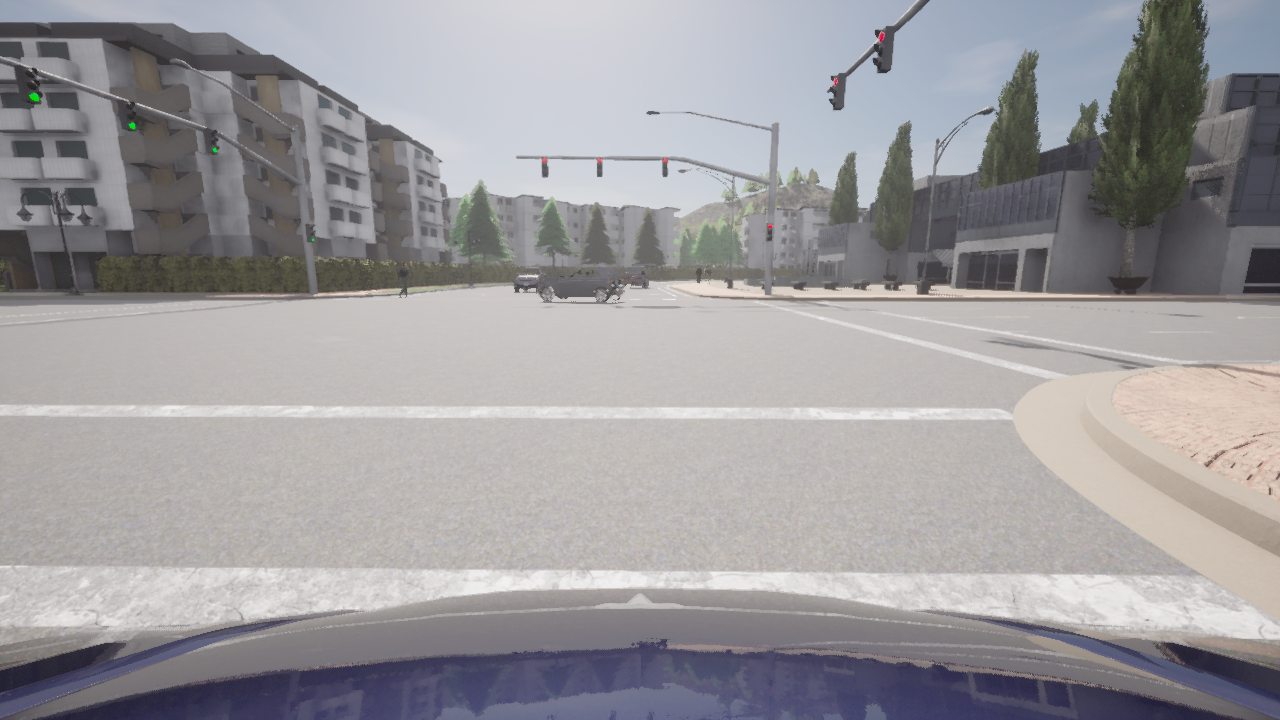cyclist: (0, 588, 1279, 719), (538, 266, 624, 302), (513, 267, 547, 292), (622, 267, 647, 287)
pedestrian: (397, 261, 411, 296), (706, 265, 712, 284), (696, 266, 702, 283), (718, 273, 720, 283)
